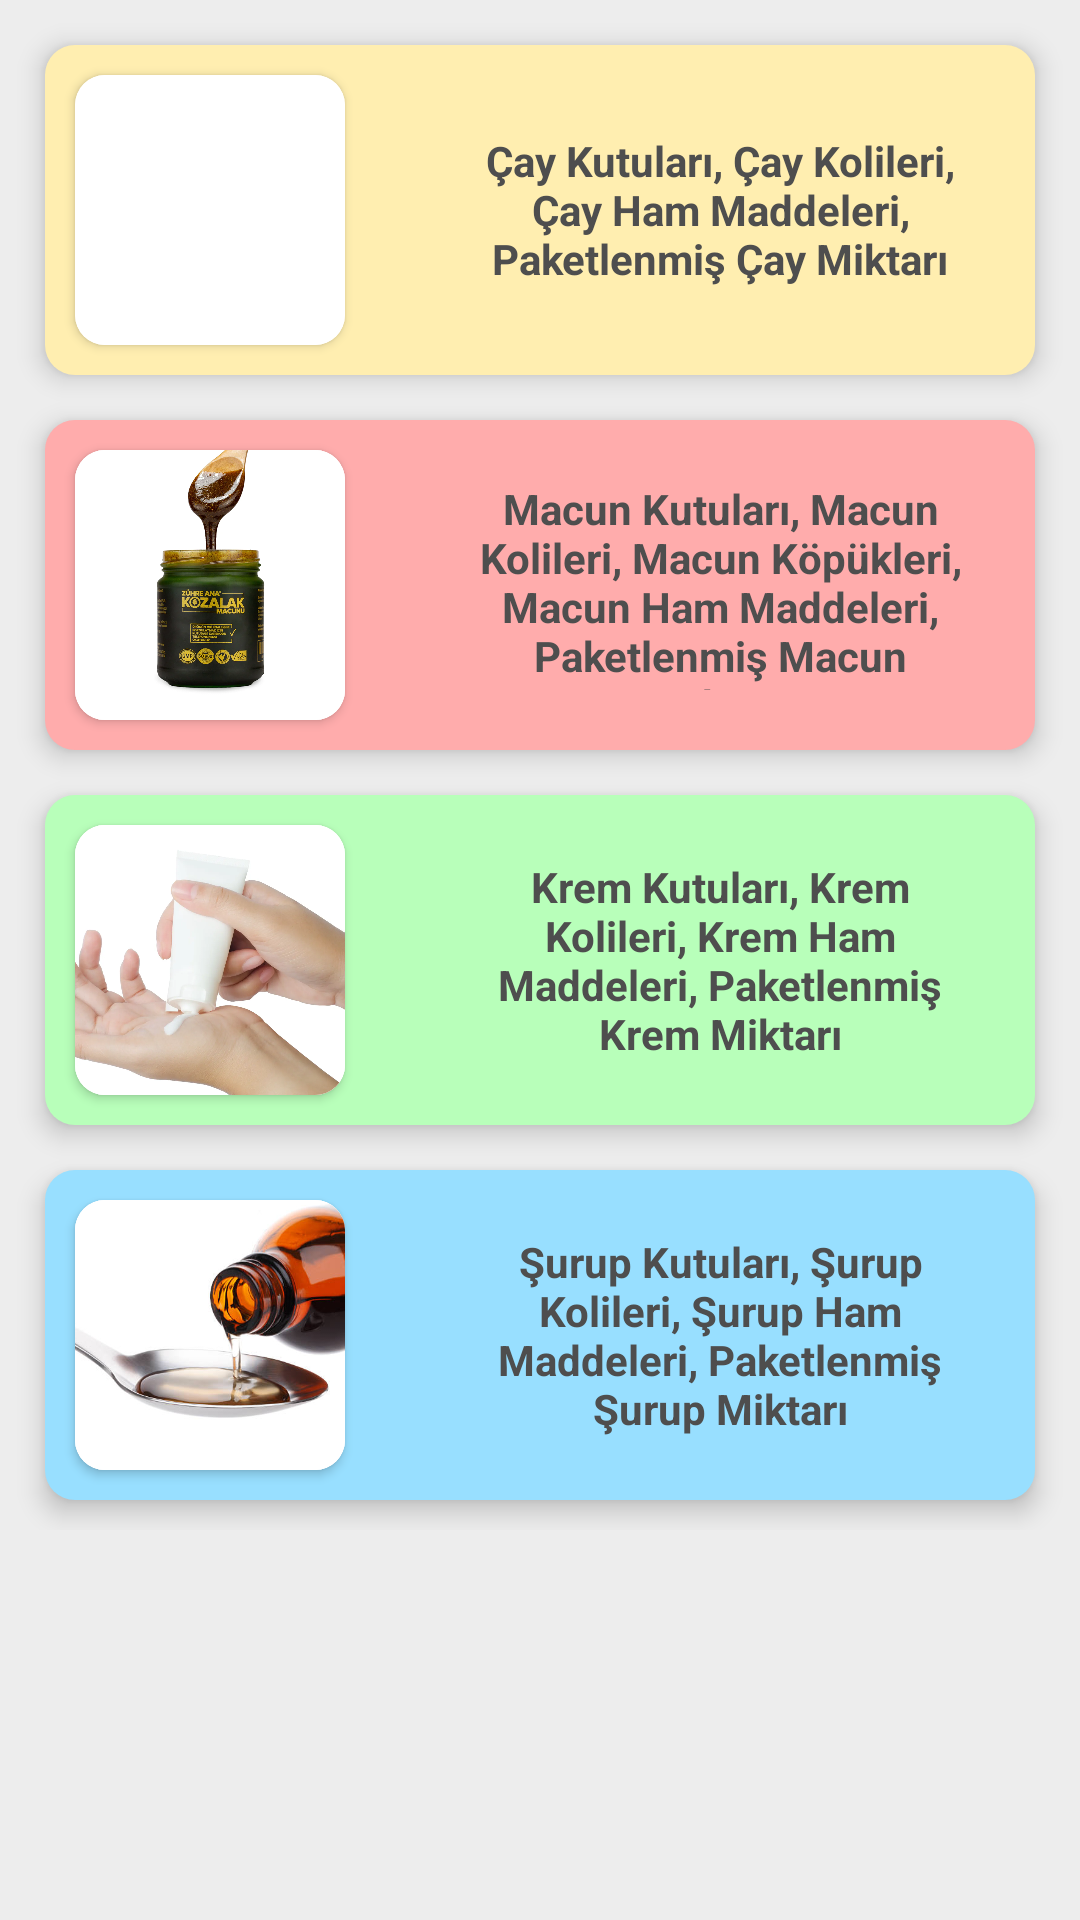

Where icons sit on this 1080px x 1920px app screen, as (x1, y1, x2, y2):
pic cream: (75, 825, 345, 1095)
pic syrup: (75, 1200, 345, 1470)
